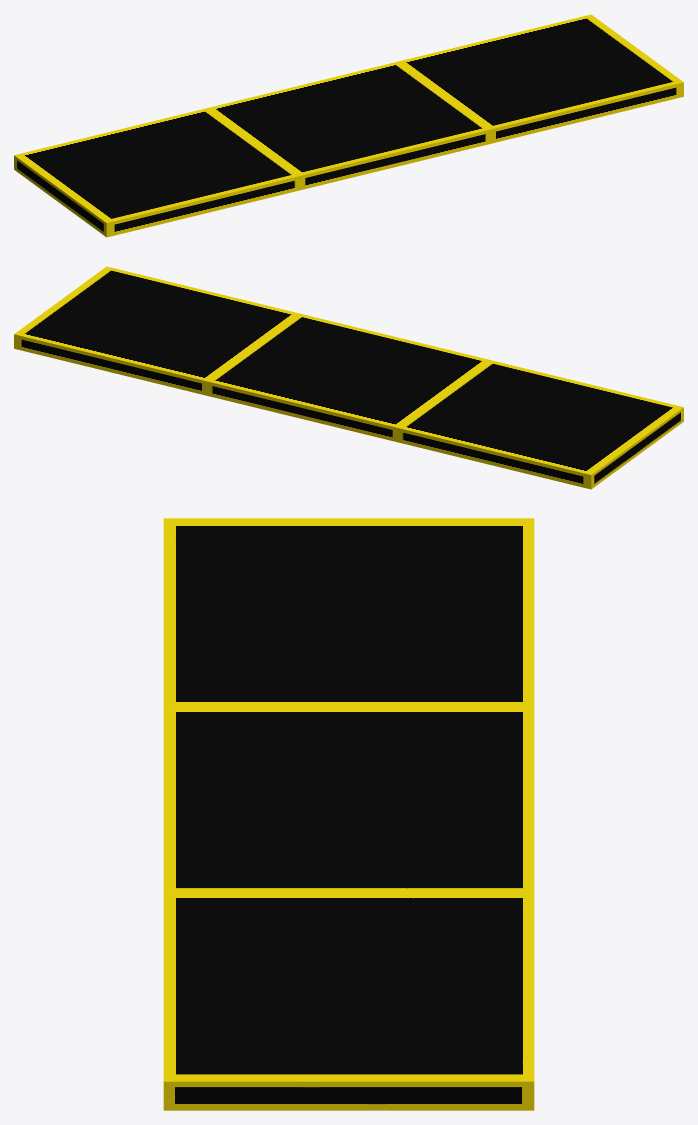
The model's file is Platform-6-new.fbx.
The picture shows the model from 3 angles, top to bottom: view 1: azimuth 30°, elevation 25°; view 2: azimuth 150°, elevation 25°; view 3: azimuth 270°, elevation 25°; orthographic projection. The views are drawn at different scales.
Parts seen in each view (by area): view 1: Cube; view 2: Cube; view 3: Cube.
Part boxes in pixels (bbox=[...]): Cube: bbox=[14, 14, 683, 237]; Cube: bbox=[14, 266, 683, 489]; Cube: bbox=[163, 518, 534, 1110].
Size of the model in its own units: 2199 by 52.55 by 612.
